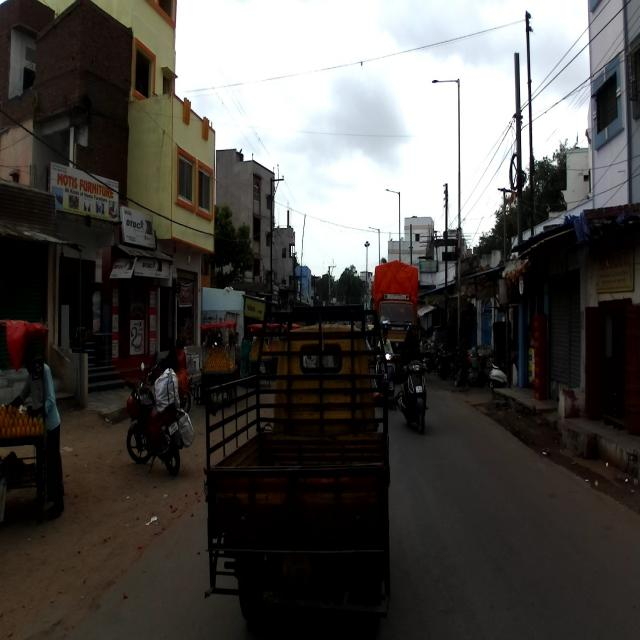autorickshaw: (201, 302, 392, 640)
scooter: (398, 354, 430, 436)
